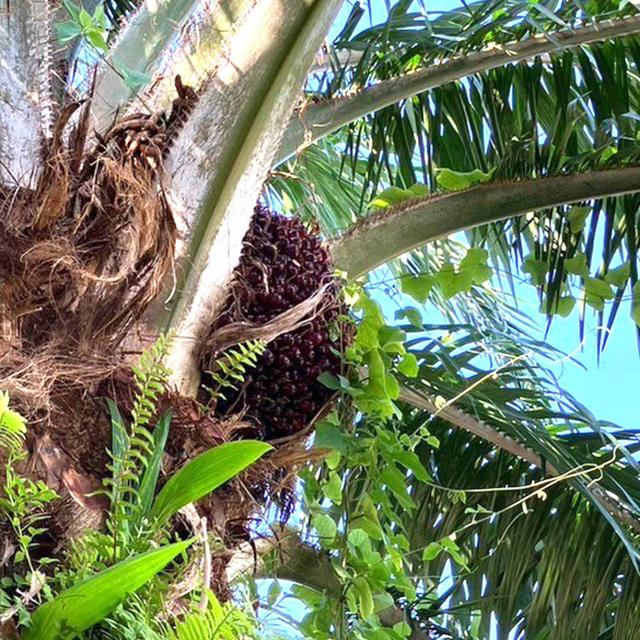ripe: (170, 195, 374, 452)
